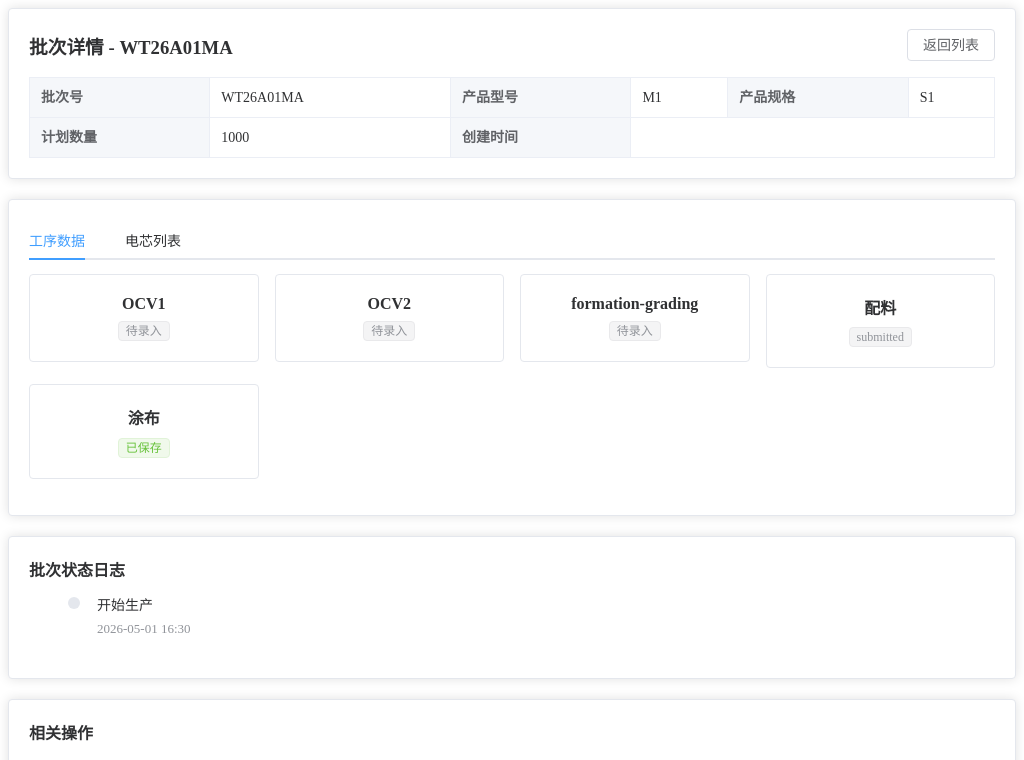
Scenario: BatchDetailPage › opens the combined formation-grading process from the batch detail page
Click the element showing "formation-grading 待录入" at (635, 318), box [520, 274, 750, 362]
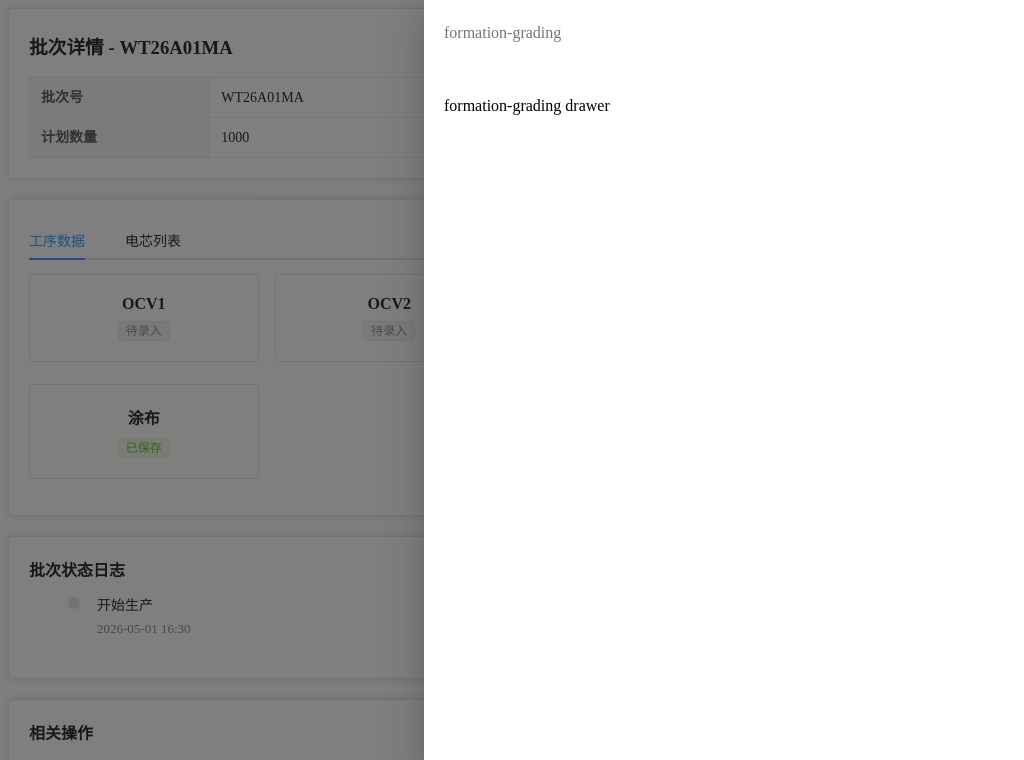
Expected: the text "formation-grading drawer" is shown, [444, 97, 610, 114]
